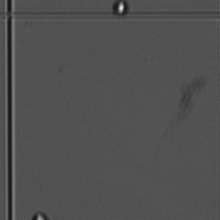Living Cell: (110, 1, 133, 23)
